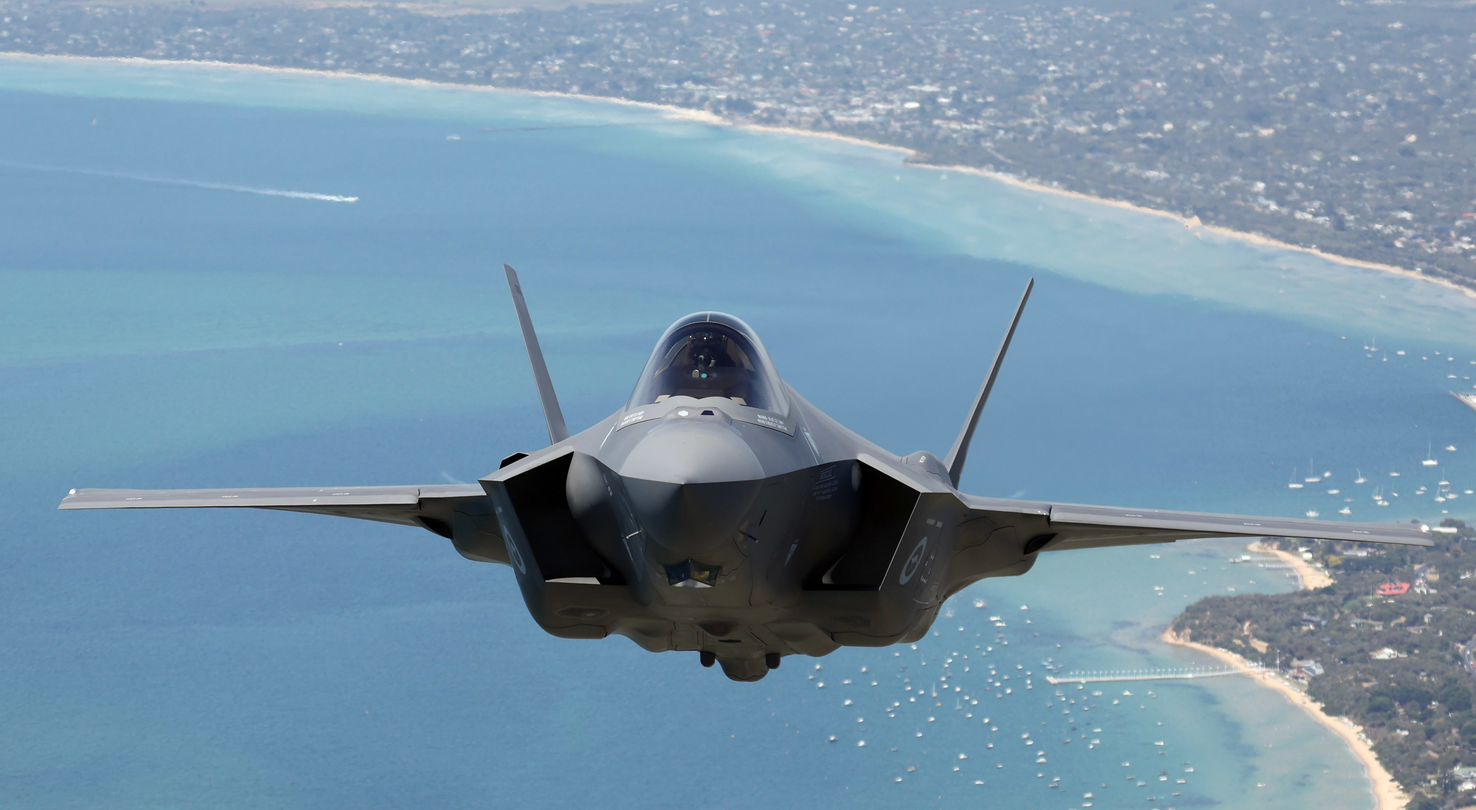F35: (46, 256, 1465, 693)
